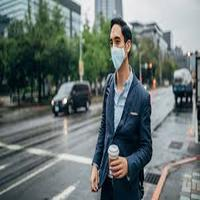flu mask: (111, 46, 124, 72)
